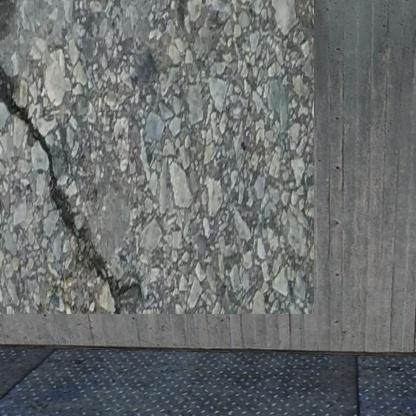Cracks: (0, 0, 136, 291)
